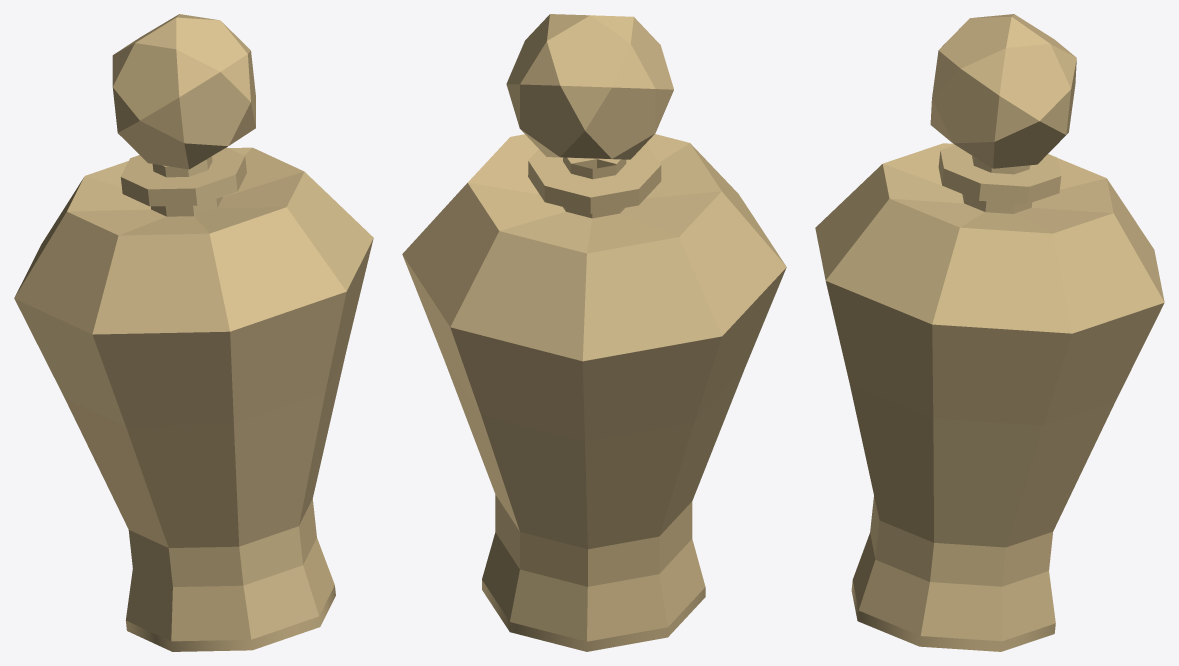
Rendered from potion2.FBX.
The picture shows the model from 3 angles, left to right: view 1: azimuth 30°, elevation 25°; view 2: azimuth 150°, elevation 25°; view 3: azimuth 270°, elevation 25°; orthographic projection. The views are drawn at different scales.
Parts seen in each view (by area): view 1: node_id4; view 2: node_id4; view 3: node_id4.
Part boxes in pixels (x1,y1,x2,y2): node_id4: (14,14,373,651); node_id4: (402,14,786,651); node_id4: (815,14,1164,651).
Size of the model in its own units: 0.2772 by 0.5191 by 0.2768.
1 material, 1 textured.
